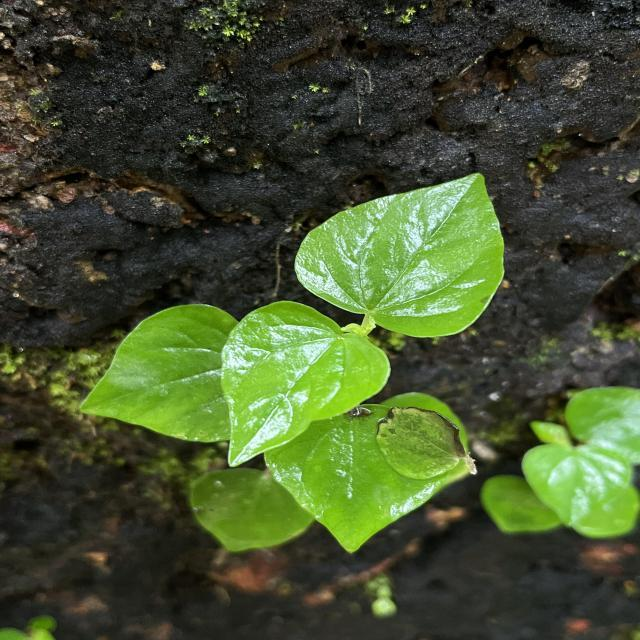Peperomia pellucida: (290, 170, 508, 342), (216, 296, 394, 469)
